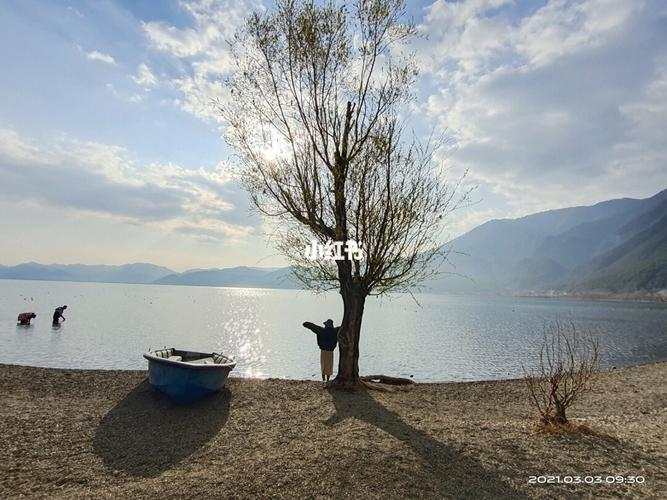mountain: (407, 174, 652, 303)
sea_river: (28, 271, 352, 364)
sky_cloud: (16, 56, 310, 258)
